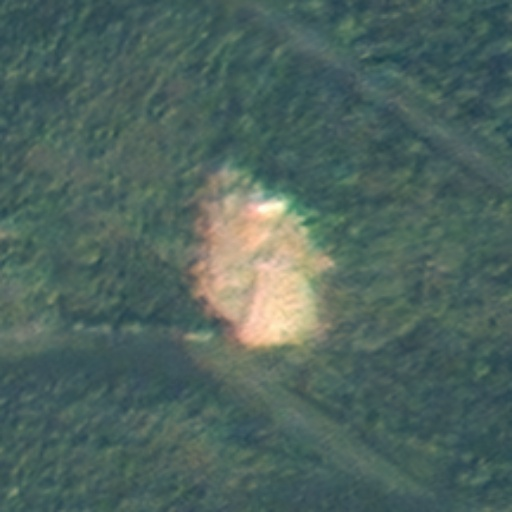landslide: (191, 170, 341, 357)
